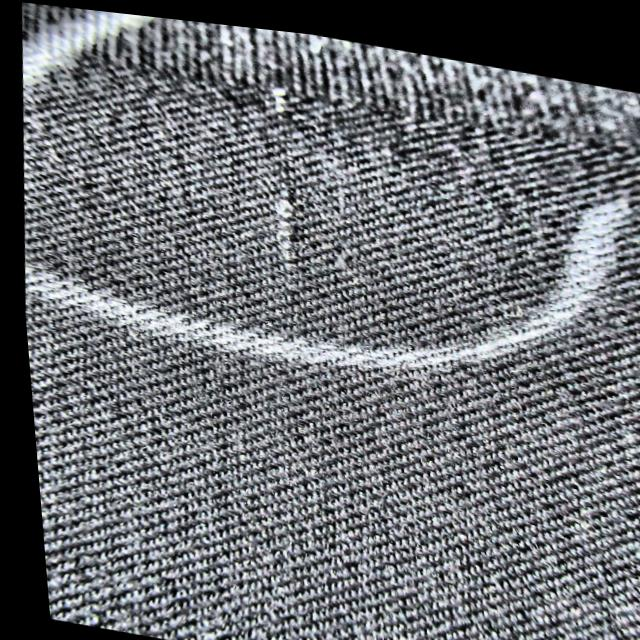Hole: (271, 82, 293, 252)
